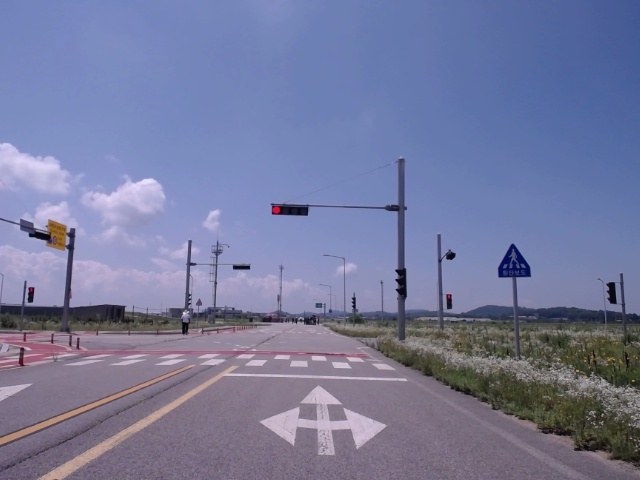red_4: (272, 206, 308, 216)
